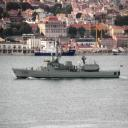Fragata: (12, 41, 122, 81)
